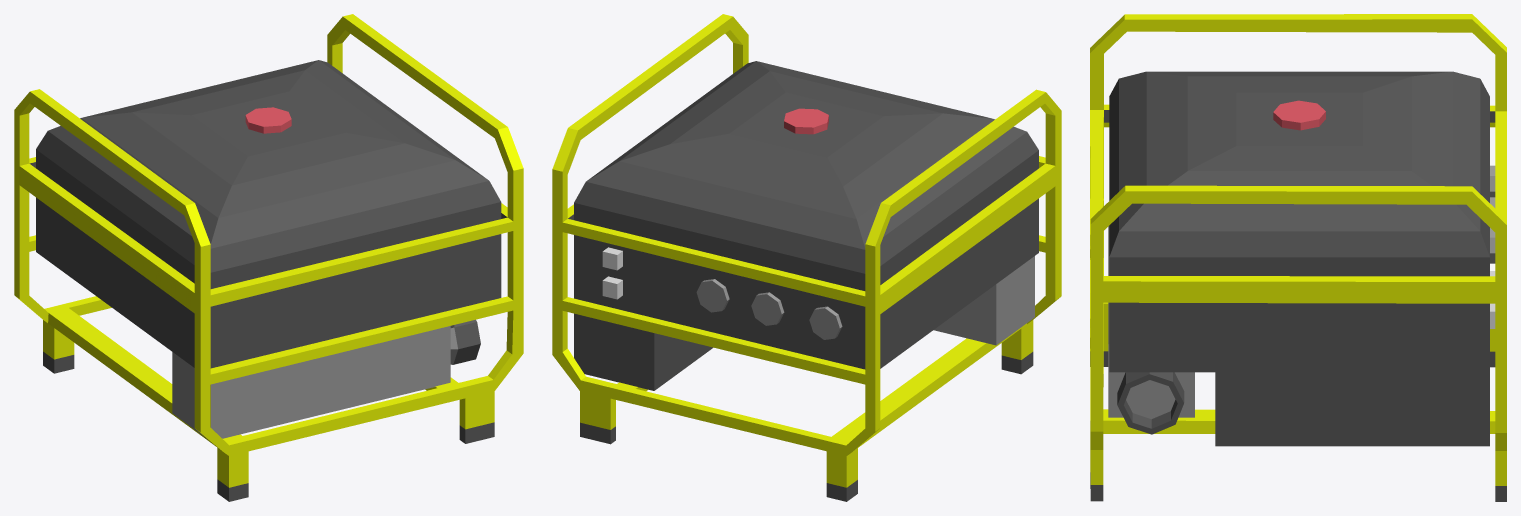
File: generatorr.fbx
3 views of the same model, side by side, from view 1: azimuth 30°, elevation 25°; view 2: azimuth 150°, elevation 25°; view 3: azimuth 270°, elevation 25° (orthographic). The views are drawn at different scales.
Parts seen in each view (by area): view 1: Cube, Cube.007, Cube.008, Cube.009, Cube.001; view 2: Cube, Cube.007, Cube.008, Cube.001, Cube.002, Cube.003, Cube.004; view 3: Cube, Cube.007, Cube.009, Cube.008, Cube.001.
Part boxes in pixels (x1,y1,x2,y2): Cube: (36, 60, 501, 368); Cube.007: (14, 14, 523, 501); Cube.008: (172, 325, 454, 438); Cube.009: (450, 319, 480, 364); Cube.001: (245, 107, 291, 133); Cube: (574, 61, 1038, 390); Cube.007: (552, 14, 1061, 501); Cube.008: (933, 256, 1034, 345); Cube.001: (784, 108, 828, 134); Cube.002: (809, 306, 842, 339); Cube.003: (751, 292, 784, 325); Cube.004: (696, 279, 729, 312); Cube: (1109, 71, 1489, 446); Cube.007: (1090, 14, 1506, 501); Cube.009: (1117, 372, 1184, 434); Cube.008: (1108, 226, 1194, 417); Cube.001: (1273, 100, 1325, 130).
Bounding box in the file's own units: 219 × 189 × 219.
